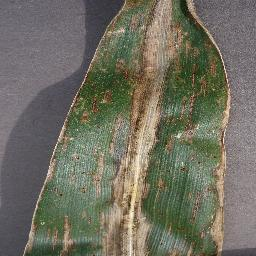Gray_Leaf_Spot: (17, 0, 234, 256)
